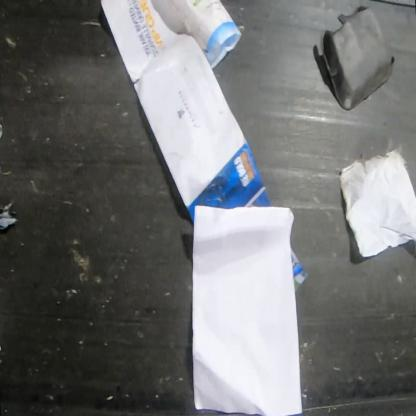rigid_plastic: (323, 5, 395, 110)
